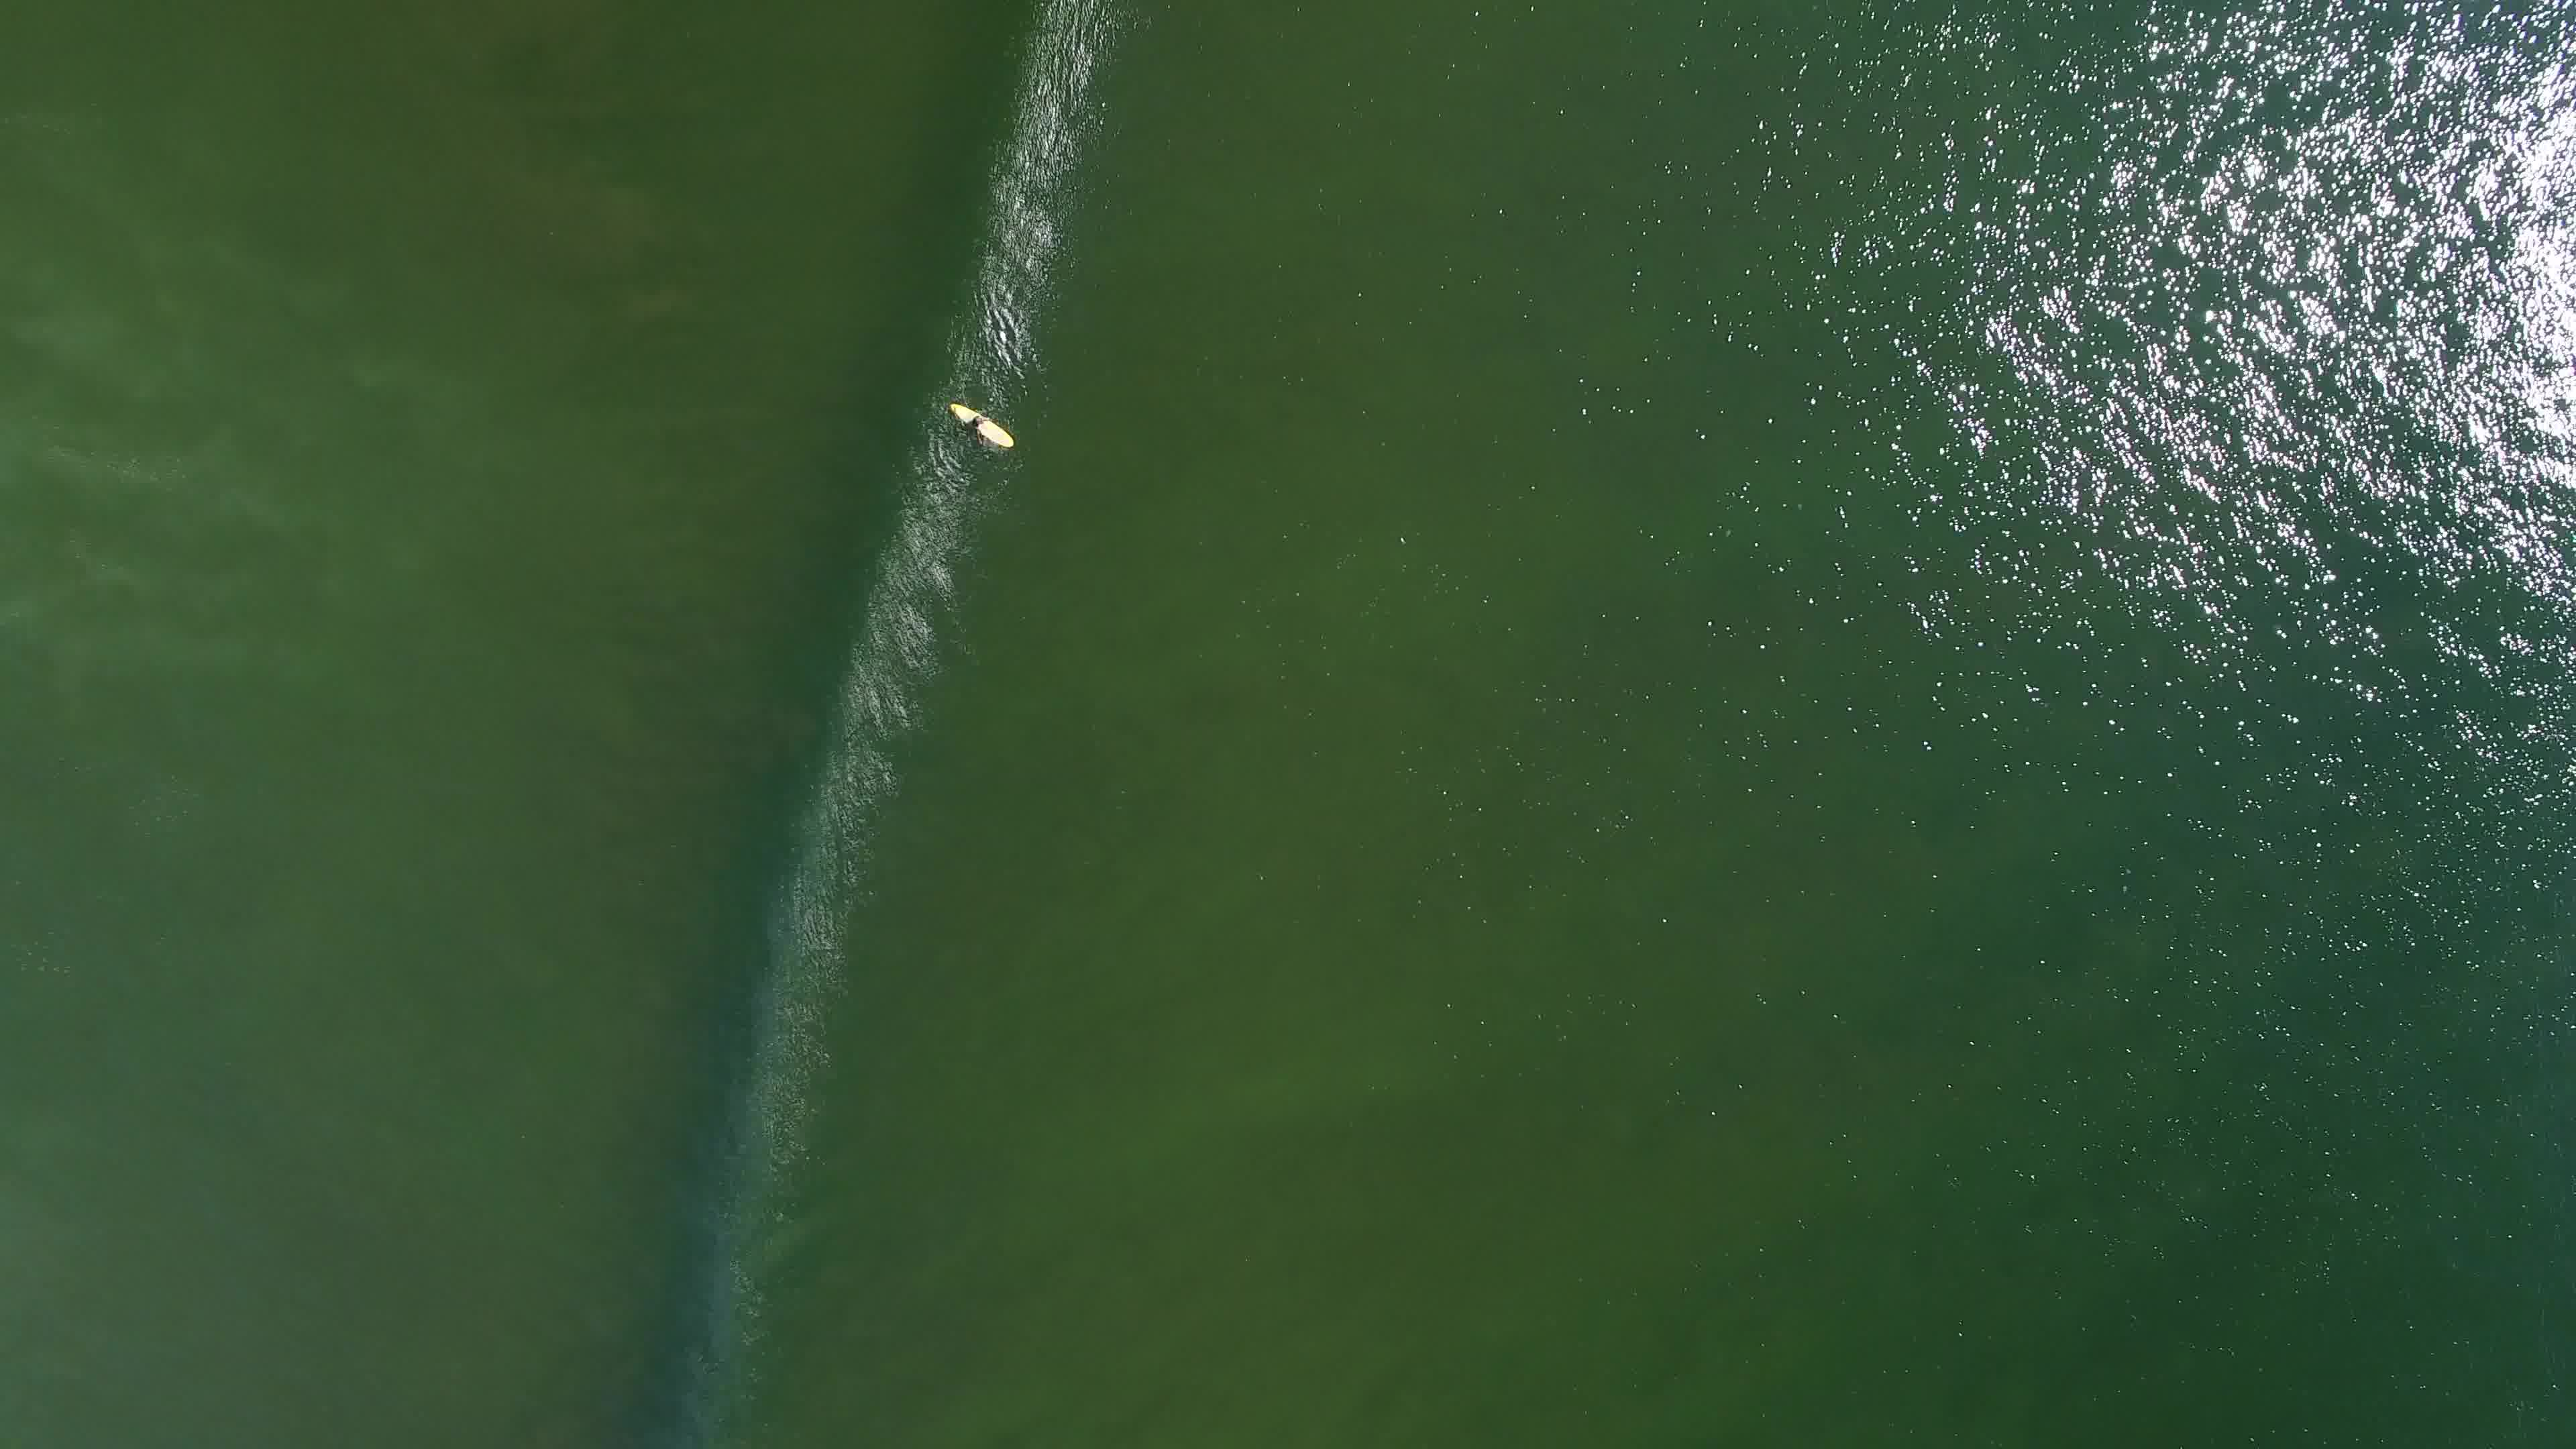surfer: (938, 389, 1026, 456)
